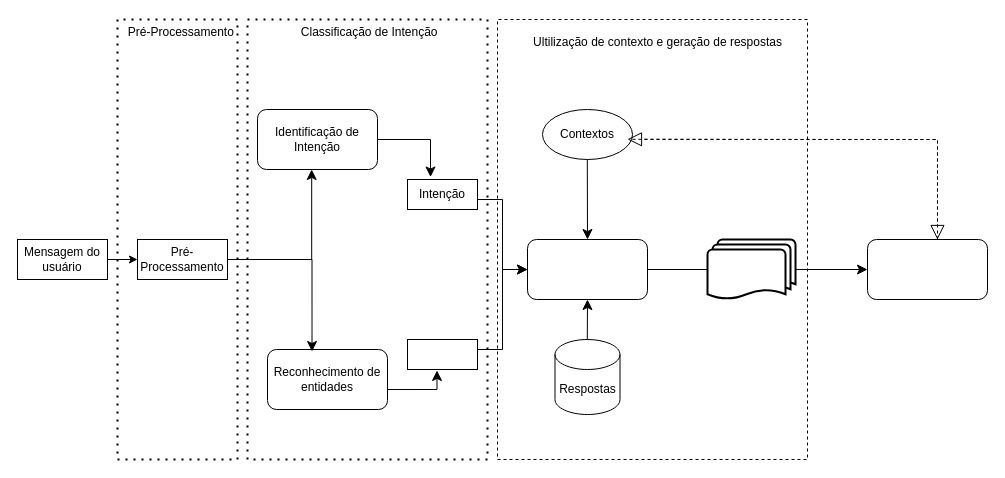
This 1005x478 diagram has some shape labels left out. The box of each missing label's shape, as (x1, y1, x2, y2) in pixels:
Entidades: (406, 338, 478, 370)
Gerador de resposta candidata: (526, 238, 648, 300)
Respostas Candidatas: (706, 238, 796, 300)
Selecionador de respostas: (866, 238, 988, 300)
